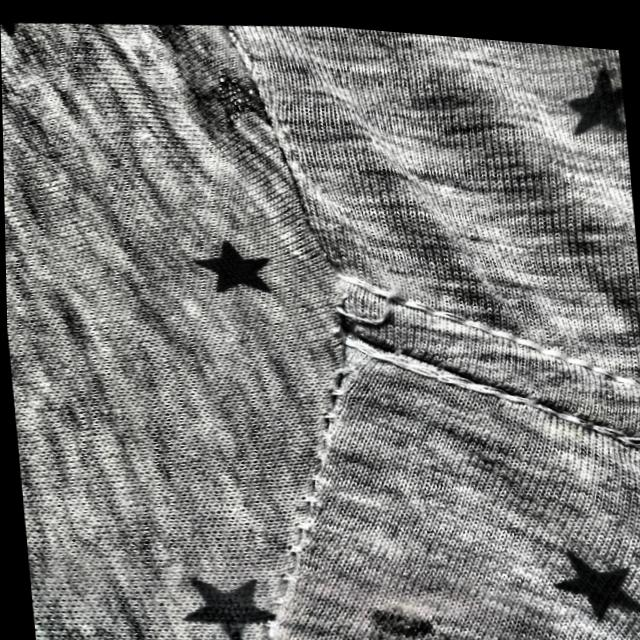Stitch: (318, 253, 431, 332)
